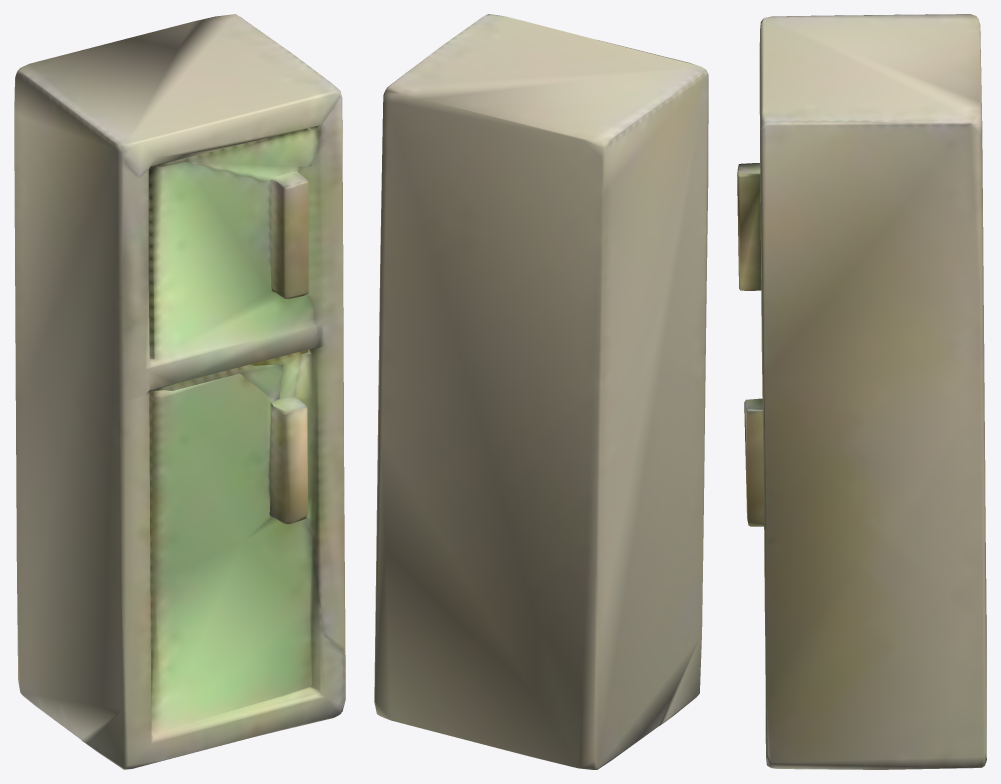
The model's file is 3D_Dollhouse_Refrigerator-medium.glb.
3 renders of one model, left to right at view 1: azimuth 30°, elevation 25°; view 2: azimuth 150°, elevation 25°; view 3: azimuth 270°, elevation 25°, orthographic. The views are drawn at different scales.
Visible parts, largest first — view 1: 3D_Dollhouse_Refrigerator; view 2: 3D_Dollhouse_Refrigerator; view 3: 3D_Dollhouse_Refrigerator.
Part boxes in pixels (bbox=[...]): 3D_Dollhouse_Refrigerator: bbox=[14, 14, 345, 769]; 3D_Dollhouse_Refrigerator: bbox=[374, 14, 708, 769]; 3D_Dollhouse_Refrigerator: bbox=[737, 14, 986, 769].
Bounding box in the file's own units: 0.0793 × 0.2096 × 0.0731.
Materials: 1 (1 with a texture image).
